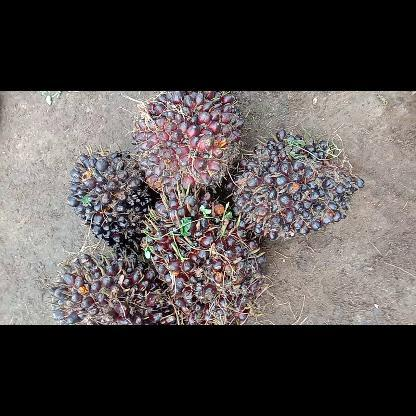TBS mentah: (137, 186, 269, 324), (224, 126, 368, 246), (130, 91, 246, 195), (47, 252, 187, 324), (65, 148, 155, 256)
